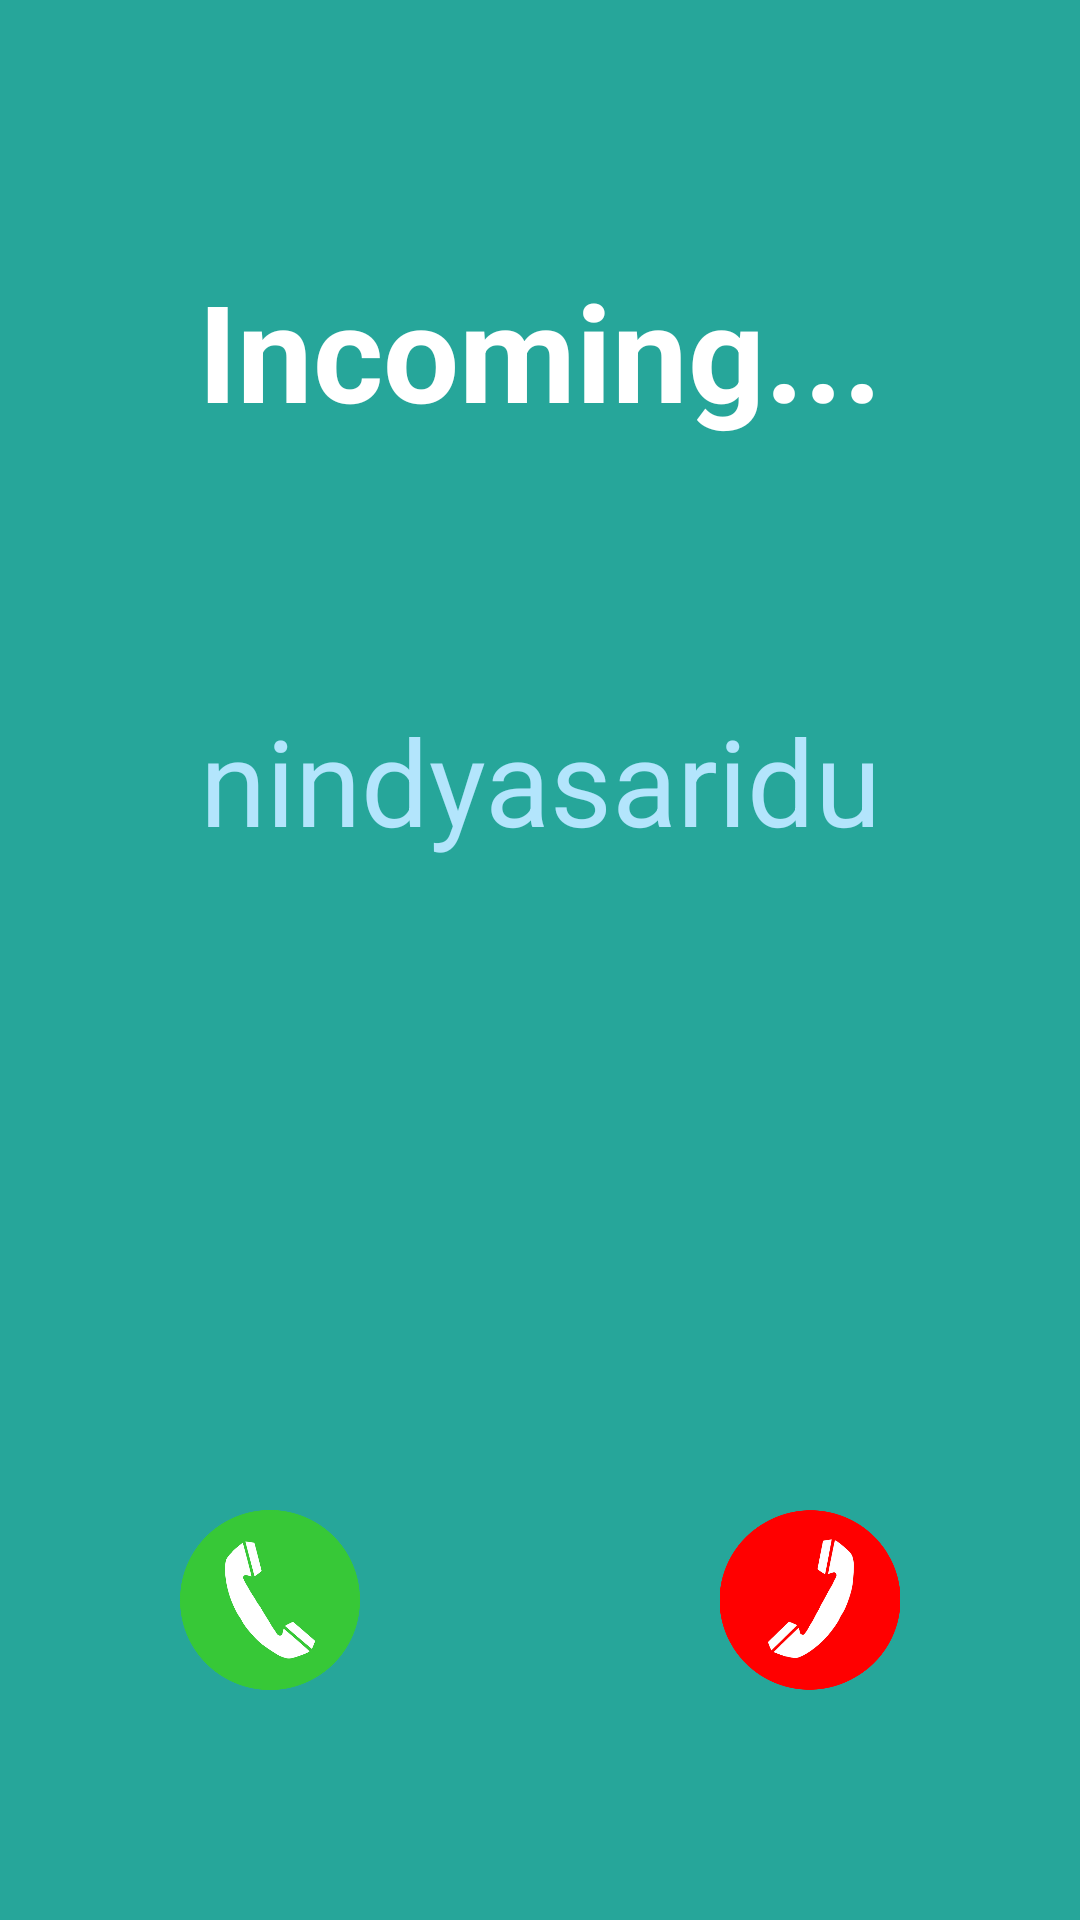

Icons on this 1080w x 1920h Android screen, each with the point to tap as (x=x, y=y):
end: (x=810, y=1600)
